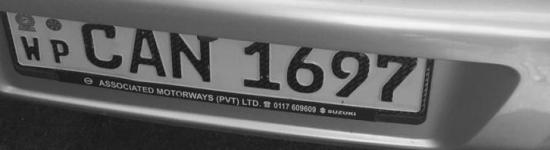1: (240, 38, 282, 96)
6: (281, 44, 326, 96)
7: (372, 49, 421, 108)
9: (329, 48, 372, 100)
A: (126, 26, 169, 80)
C: (76, 21, 123, 72)
N: (170, 31, 212, 86)
P: (47, 35, 73, 68)
W: (17, 33, 44, 65)
